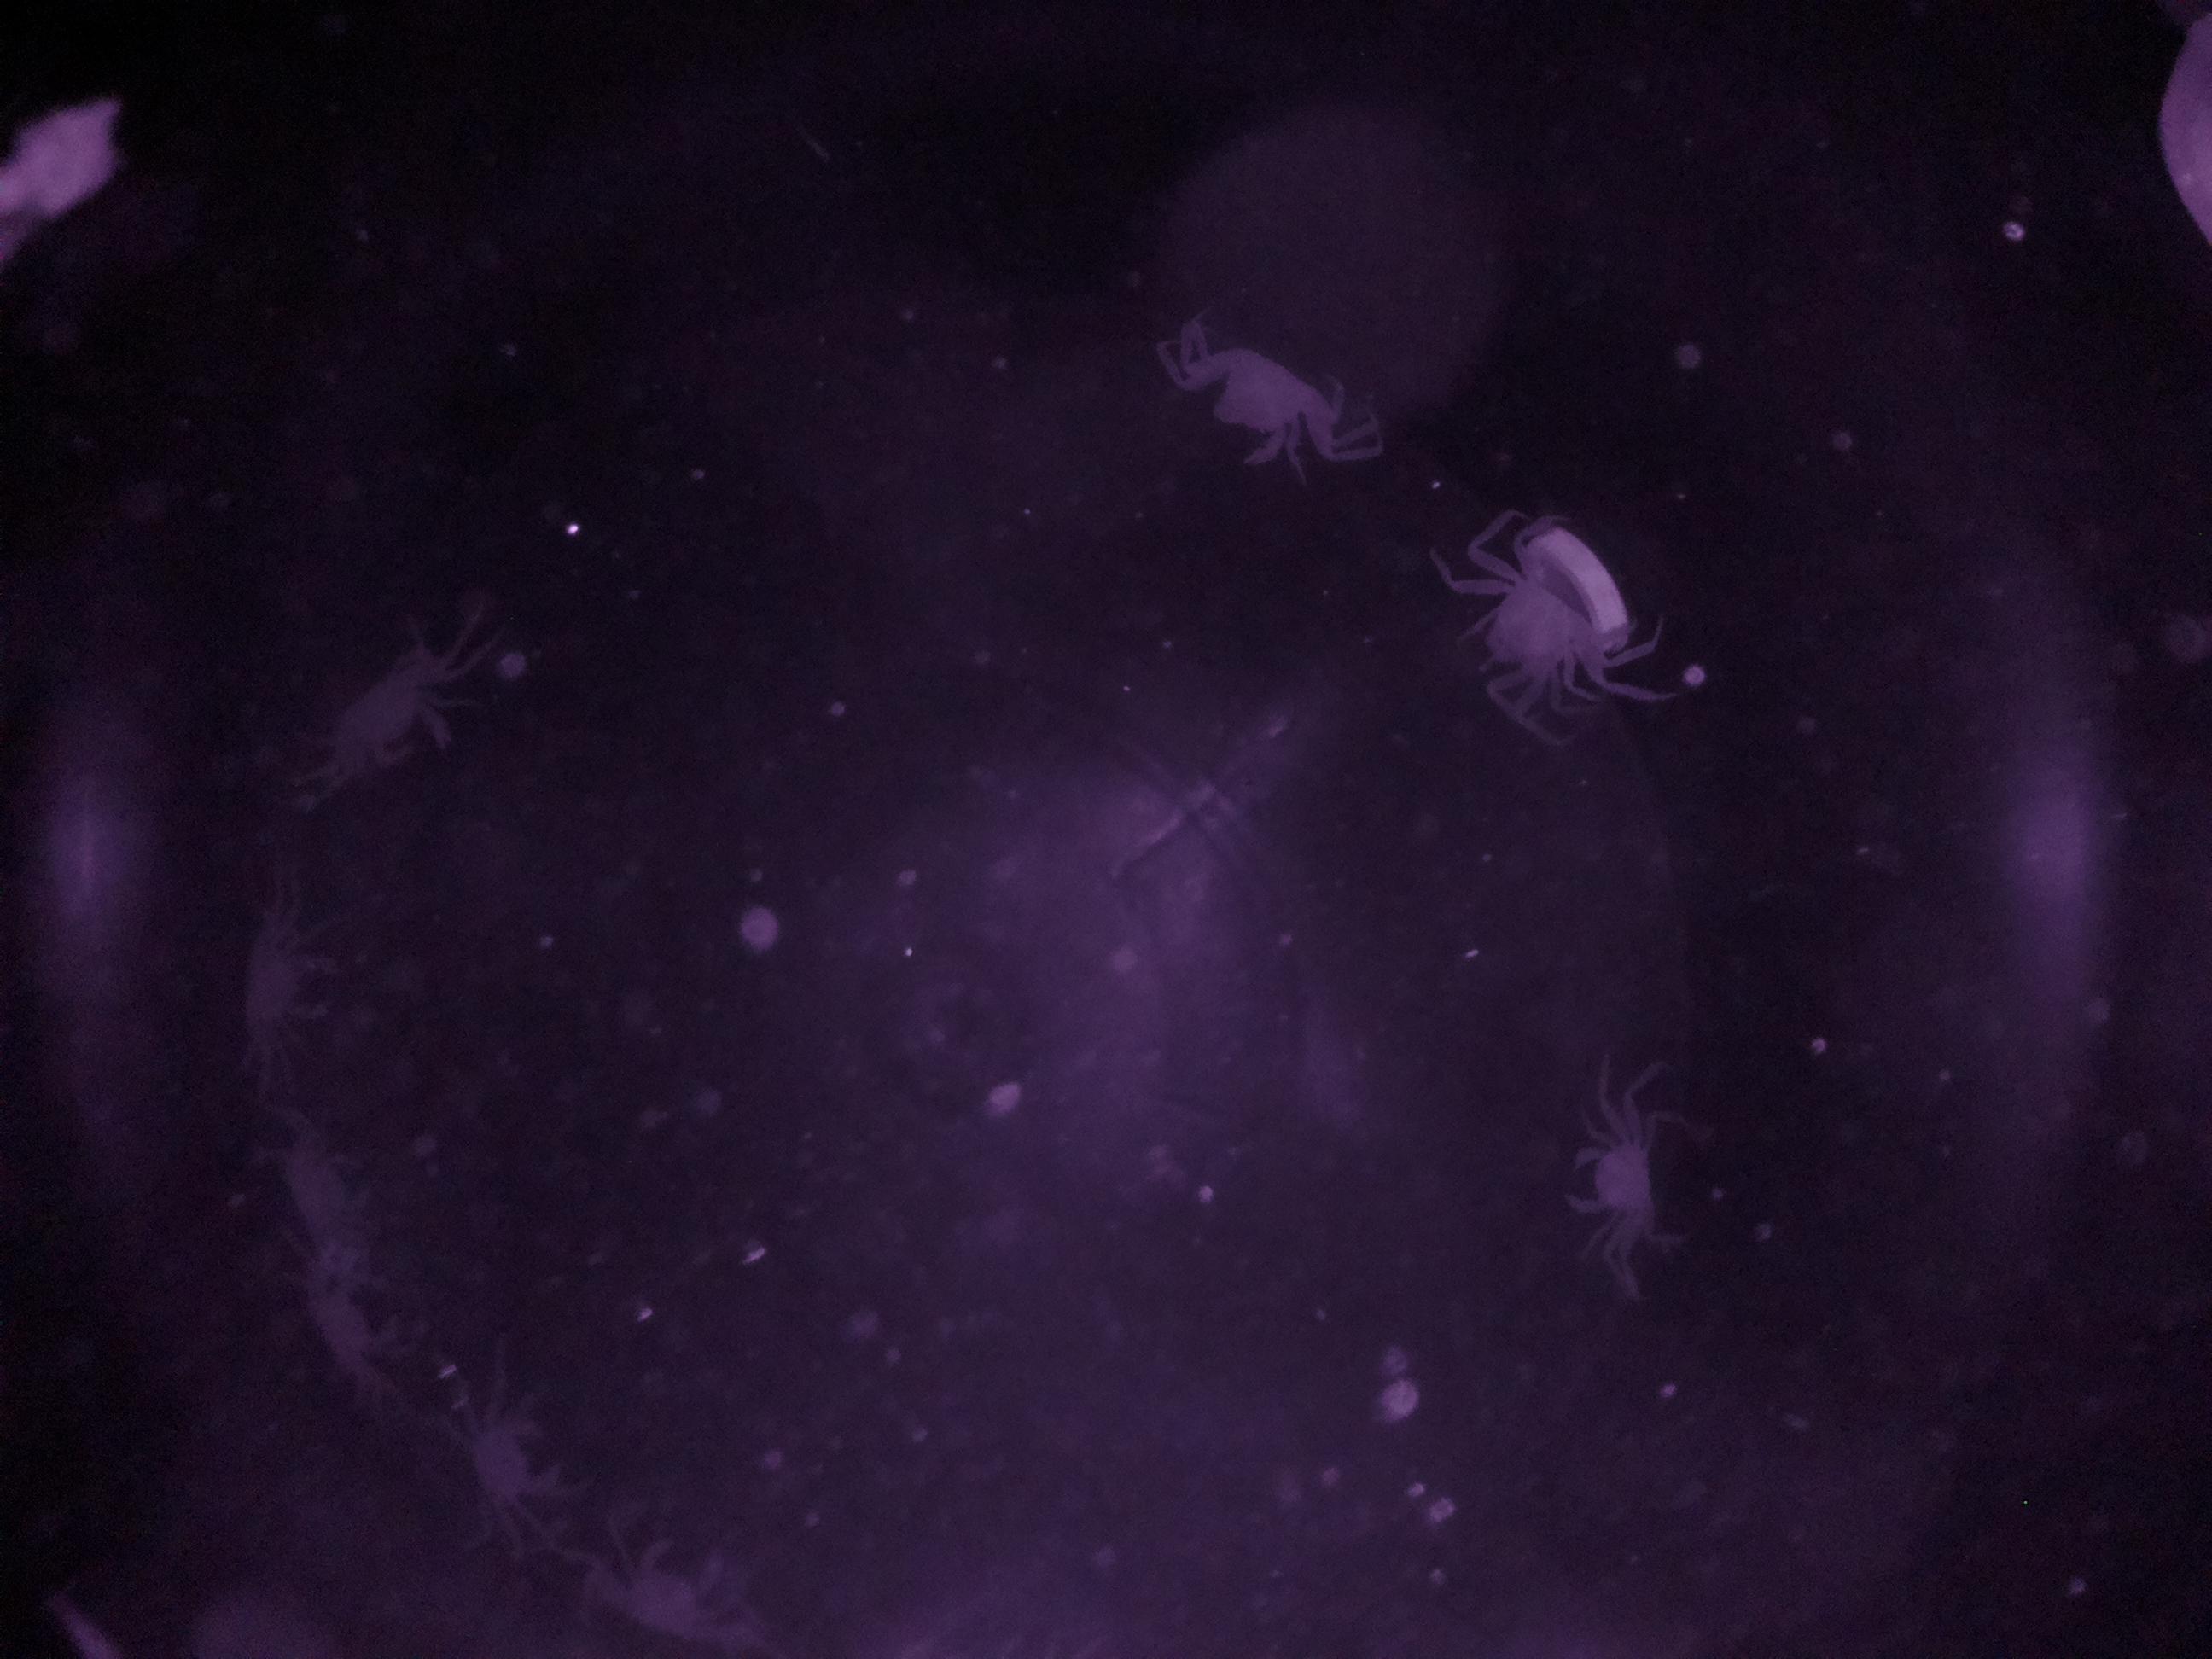Crab: (1134, 301, 1355, 493), (287, 606, 482, 802), (1527, 1070, 1695, 1270), (418, 1373, 592, 1558), (578, 1513, 786, 1635)
